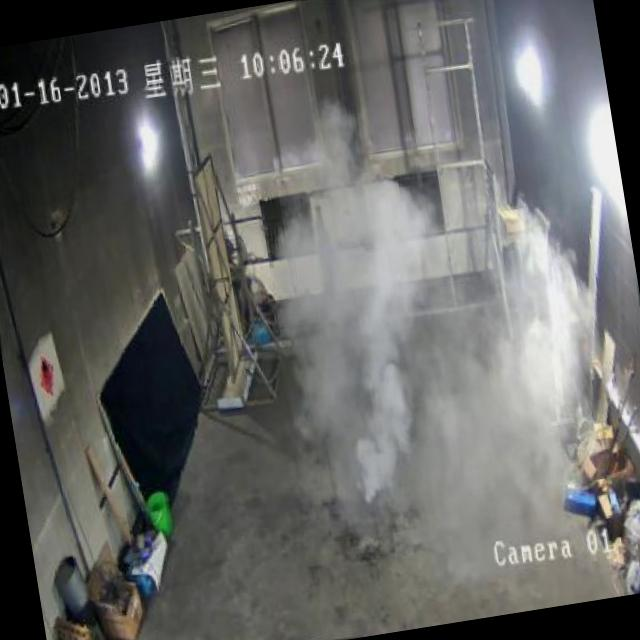smoke: (276, 130, 574, 500)
